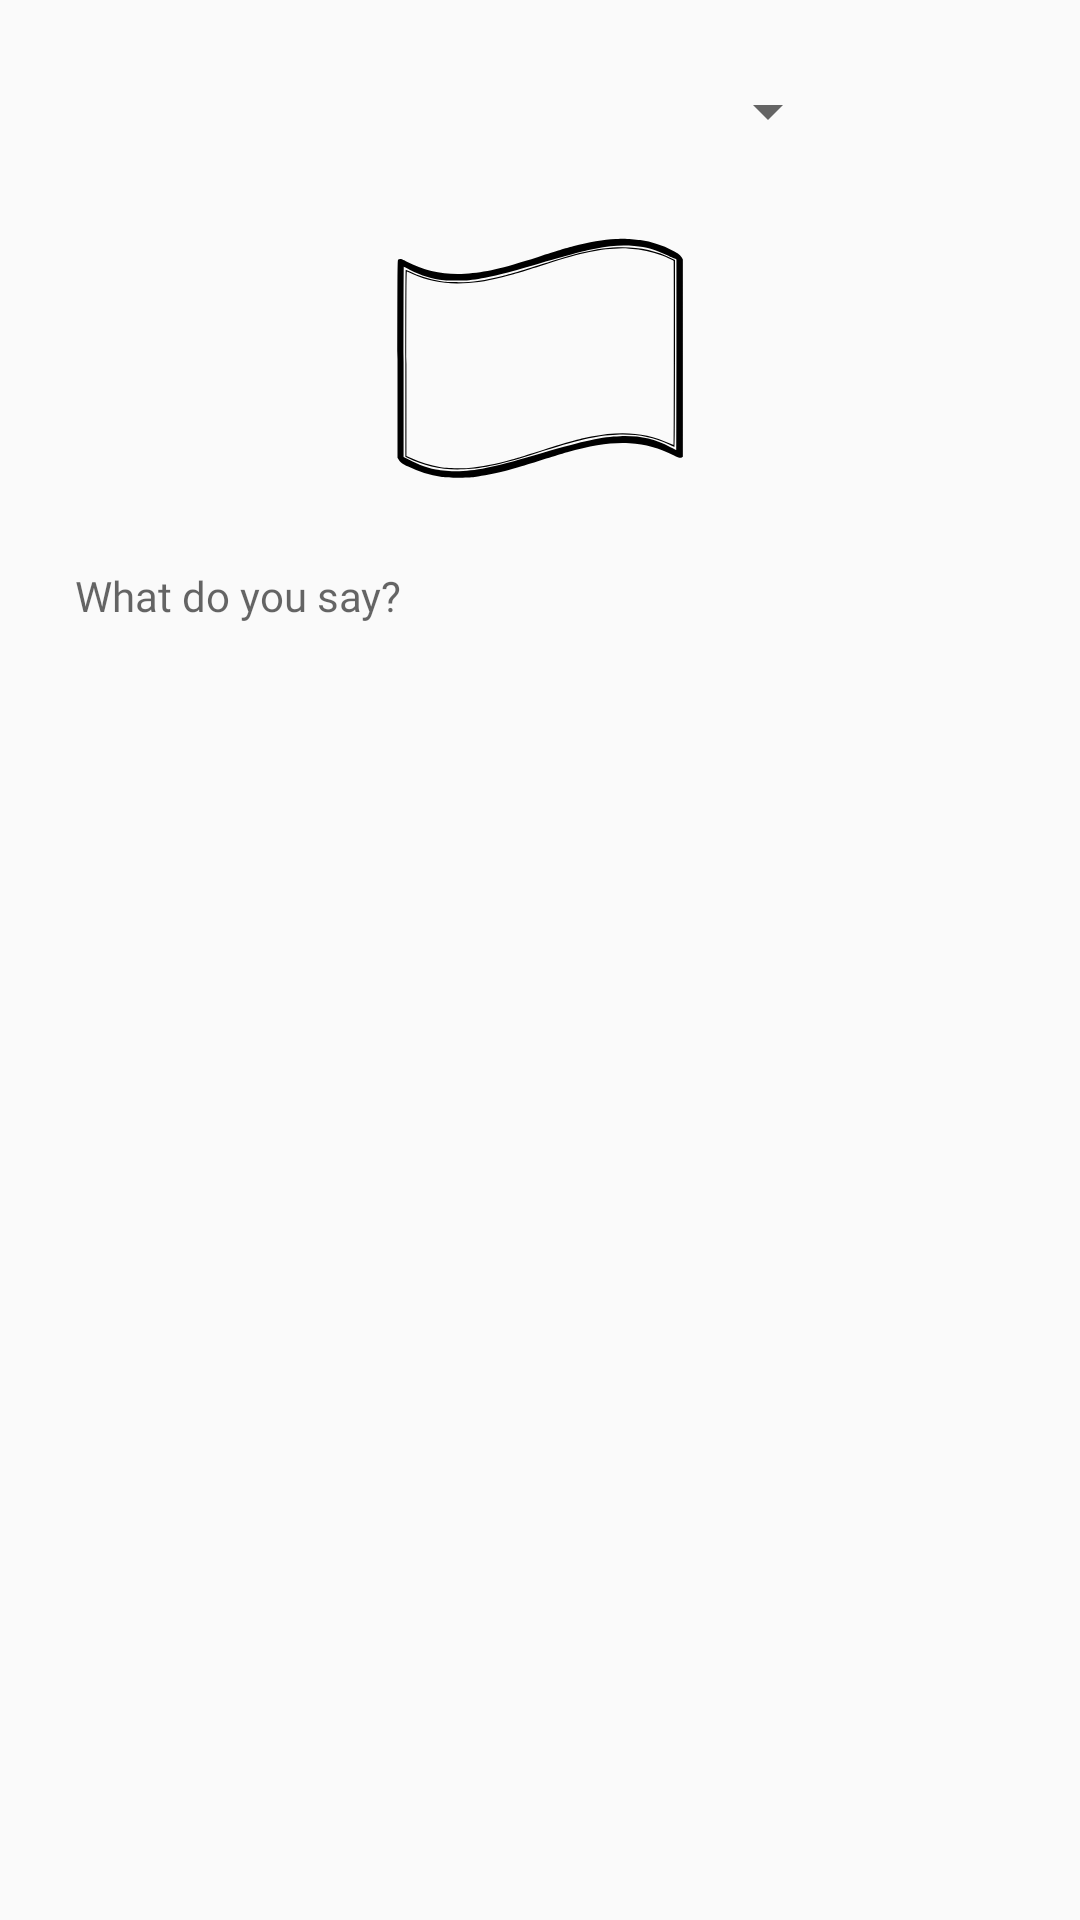

Screen size 1080 x 1920. Icon name, then its box in pixels as bbox=[x1, y1, x2, y2]:
flag: bbox=[397, 238, 683, 478]
